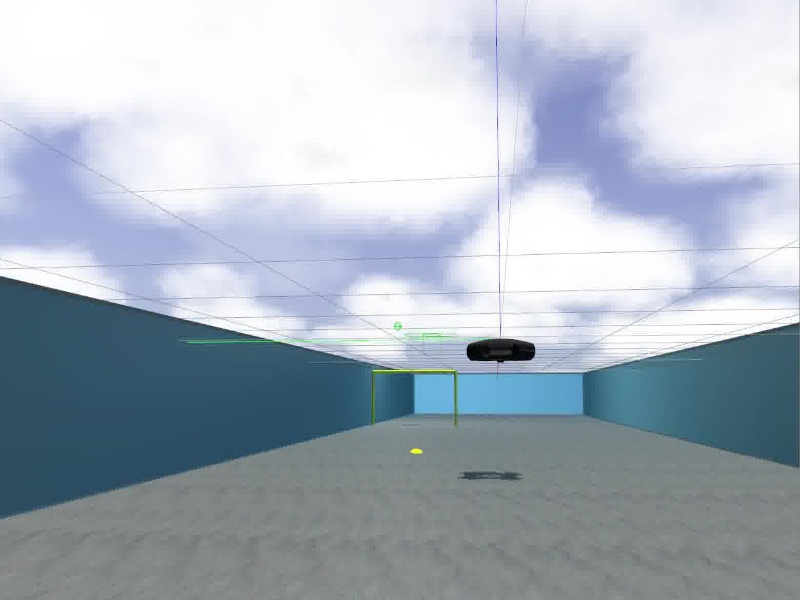gate: (369, 367, 460, 429)
